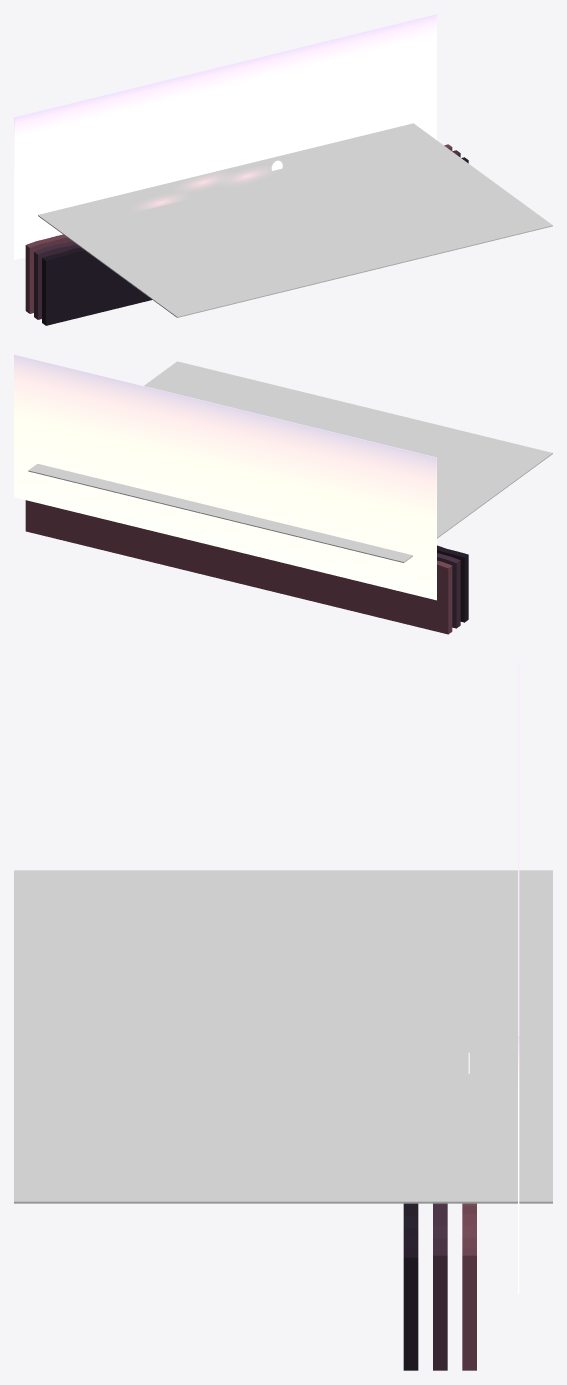
Rendered from dawn.glb.
The picture shows the model from 3 angles, top to bottom: view 1: azimuth 30°, elevation 25°; view 2: azimuth 150°, elevation 25°; view 3: azimuth 270°, elevation 25°; orthographic projection. The views are drawn at different scales.
Visible parts, largest first — view 1: Ground contact / transparent shadow receiver.003, Sky gradient / editable material.003, World / terrain and architecture.003, Motion / cloud 3, Motion / cloud 2; view 2: Sky gradient / editable material.003, Ground contact / transparent shadow receiver.003, World / terrain and architecture.003; view 3: Ground contact / transparent shadow receiver.003, World / terrain and architecture.003, Sky gradient / editable material.003.
Boxes of the visible parts, bbox=[...] form: Ground contact / transparent shadow receiver.003: bbox=[38, 123, 552, 317]; Sky gradient / editable material.003: bbox=[14, 14, 436, 259]; World / terrain and architecture.003: bbox=[25, 144, 468, 325]; Motion / cloud 3: bbox=[225, 168, 269, 183]; Motion / cloud 2: bbox=[181, 174, 225, 189]; Sky gradient / editable material.003: bbox=[14, 354, 436, 600]; Ground contact / transparent shadow receiver.003: bbox=[28, 361, 552, 562]; World / terrain and architecture.003: bbox=[25, 500, 468, 634]; Ground contact / transparent shadow receiver.003: bbox=[14, 870, 552, 1203]; World / terrain and architecture.003: bbox=[403, 1203, 476, 1370]; Sky gradient / editable material.003: bbox=[518, 663, 519, 1293].
Bounding box in the file's own units: 180 × 75.4 × 110.
9 materials, 1 textured.
